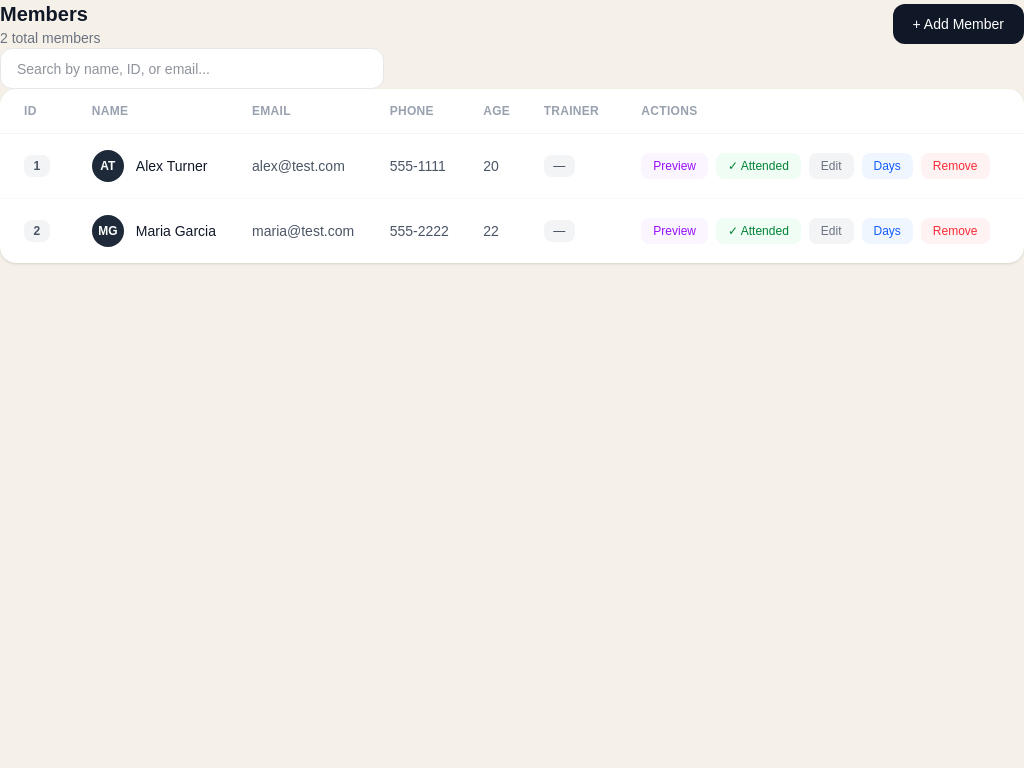
Test: Admin Members Page › opens Add Member modal on button click
The width and height of the screenshot is (1024, 768).
Expected: the text "Alex Turner" is shown, 136,156 -> 207,176
Click the button "+ Add Member" at [958, 24], box 893,4 -> 1023,44
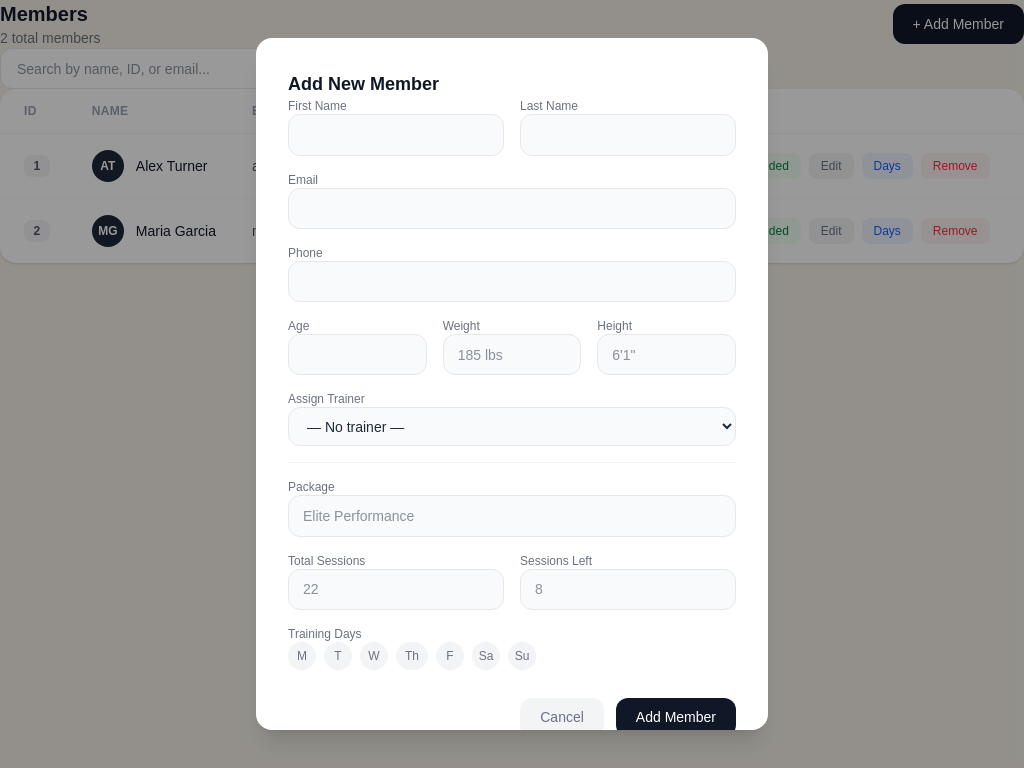
Expected: the heading "Add New Member" is shown, 288,74 -> 439,94
